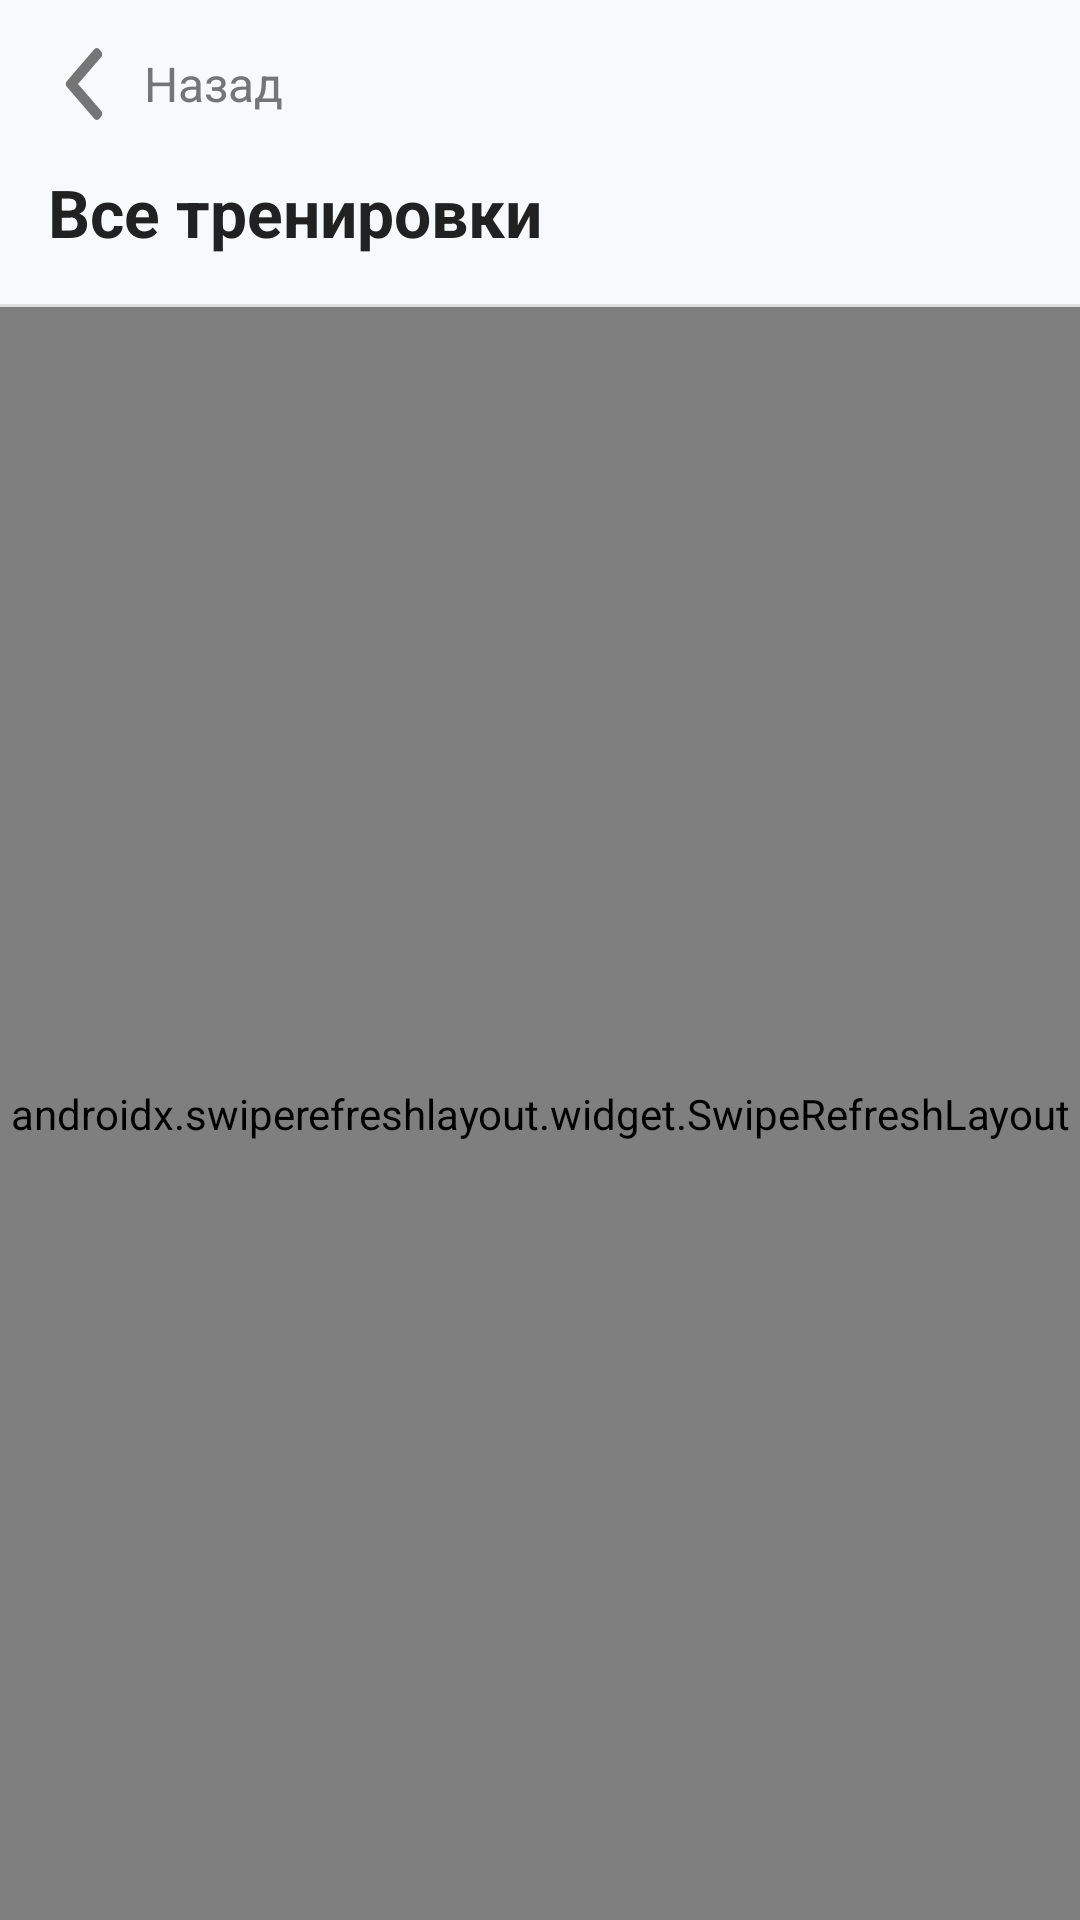

Where to tap for icons on this 1080 x 1920 app screen, as [x,y]:
arrow left: [84,84]
